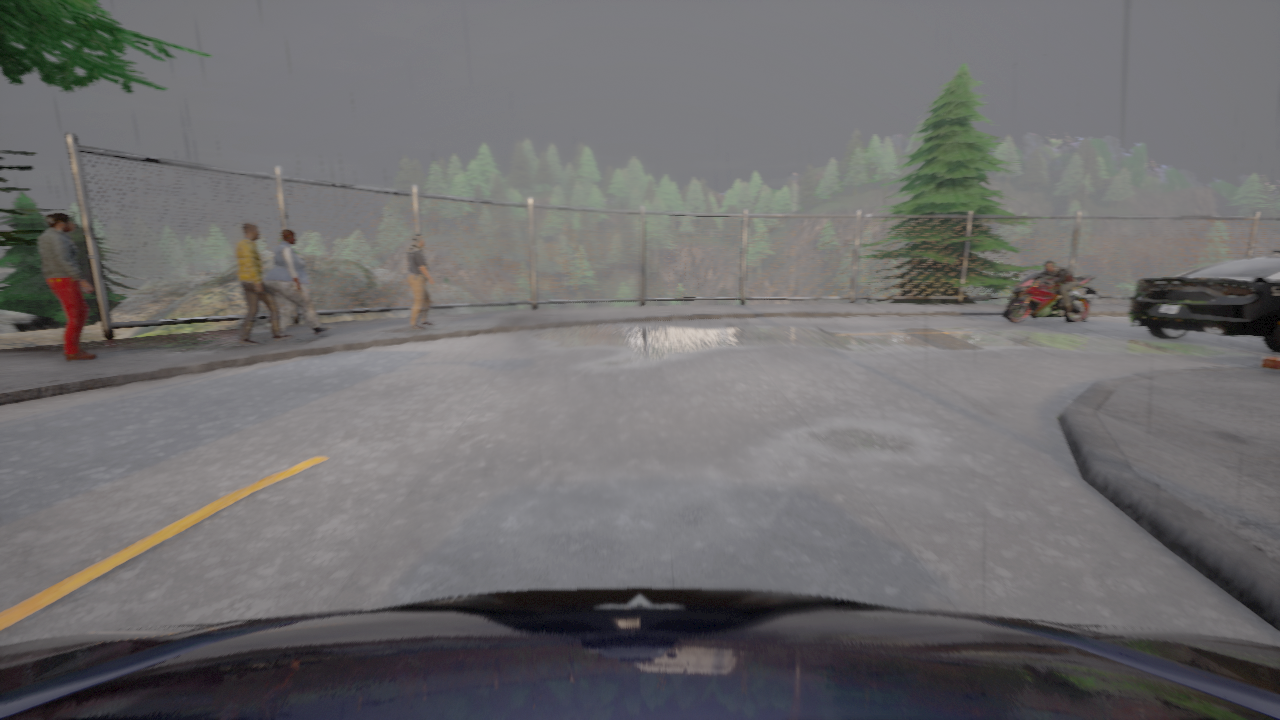cyclist: (0, 588, 1279, 719), (1129, 249, 1279, 352), (1003, 273, 1098, 322)
pedestrian: (39, 211, 96, 359), (264, 228, 329, 338), (236, 222, 294, 344), (407, 233, 435, 329)
